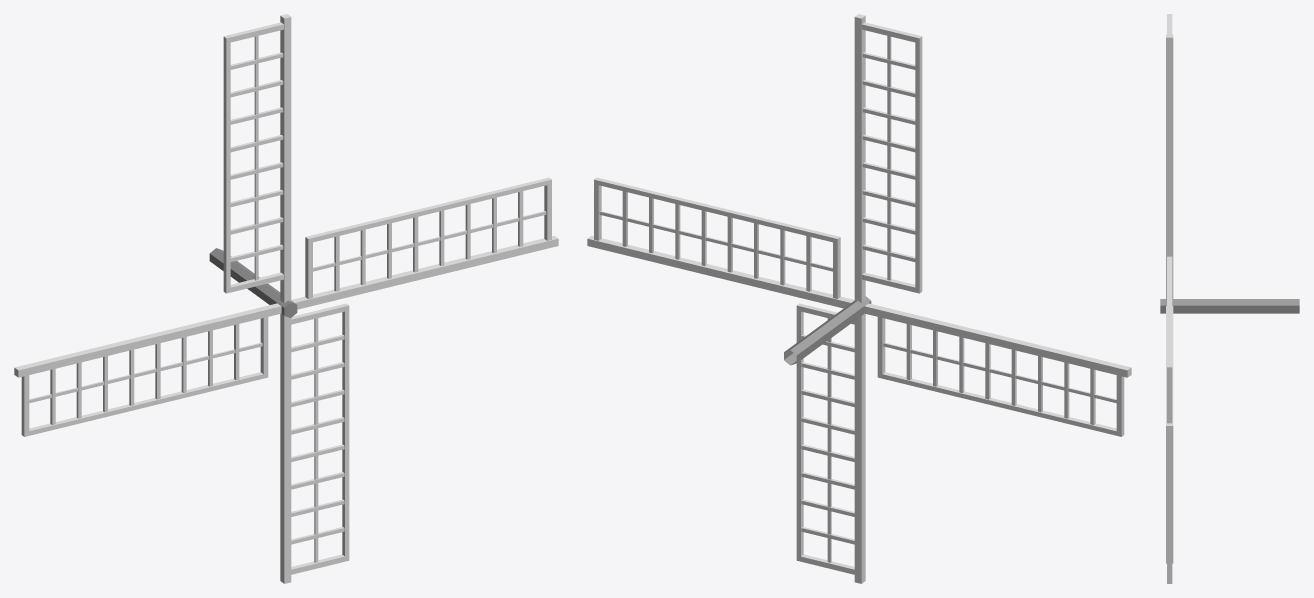
The model's file is tower_020.glb.
3 renders of one model, left to right at view 1: azimuth 30°, elevation 25°; view 2: azimuth 150°, elevation 25°; view 3: azimuth 270°, elevation 25°, orthographic. The views are drawn at different scales.
Visible parts, largest first — view 1: tower_020; view 2: tower_020; view 3: tower_020.
Part boxes in pixels (box(x1,y1,x2,y2)): tower_020: box(14, 14, 558, 583); tower_020: box(587, 14, 1131, 583); tower_020: box(1160, 14, 1299, 583).
Bounding box in the file's own units: 11.64 × 11.64 × 2.79.
1 material, 1 textured.
